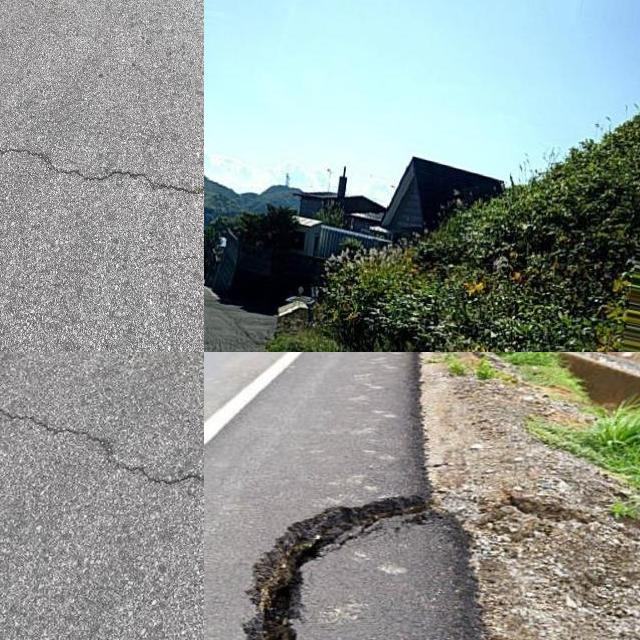Melintang: (0, 388, 204, 506), (0, 136, 204, 198)
Pinggir: (227, 485, 477, 640)
